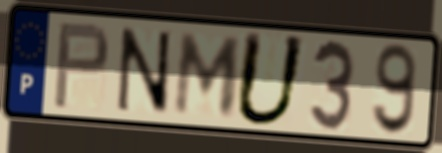3: (307, 37, 358, 134)
9: (371, 41, 420, 140)
M: (170, 30, 246, 119)
N: (115, 25, 173, 118)
P: (50, 21, 112, 112)
U: (230, 29, 310, 130)
